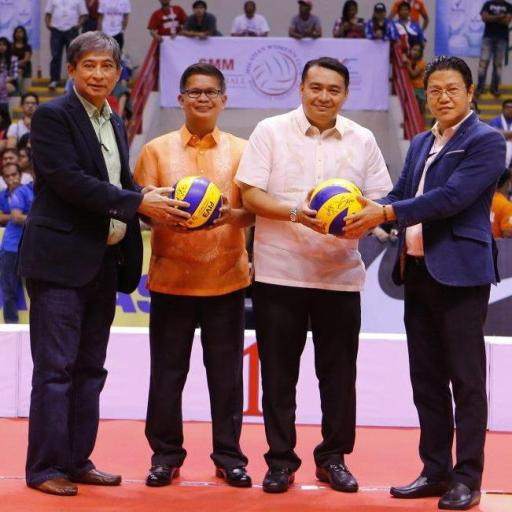person: (18, 31, 188, 495), (344, 56, 505, 509), (236, 57, 391, 492), (134, 64, 254, 487), (0, 164, 33, 323), (45, 0, 88, 89), (476, 0, 511, 96), (402, 44, 426, 115), (8, 93, 39, 147), (98, 0, 131, 50), (148, 0, 187, 42), (395, 1, 426, 53), (181, 0, 221, 39), (489, 100, 511, 167), (490, 168, 511, 238), (231, 0, 269, 36), (365, 3, 398, 41), (289, 0, 321, 39), (333, 0, 364, 38), (0, 37, 19, 94), (12, 26, 32, 77), (406, 0, 429, 31), (82, 0, 99, 33), (19, 147, 34, 180), (0, 109, 10, 153), (2, 148, 19, 168)
